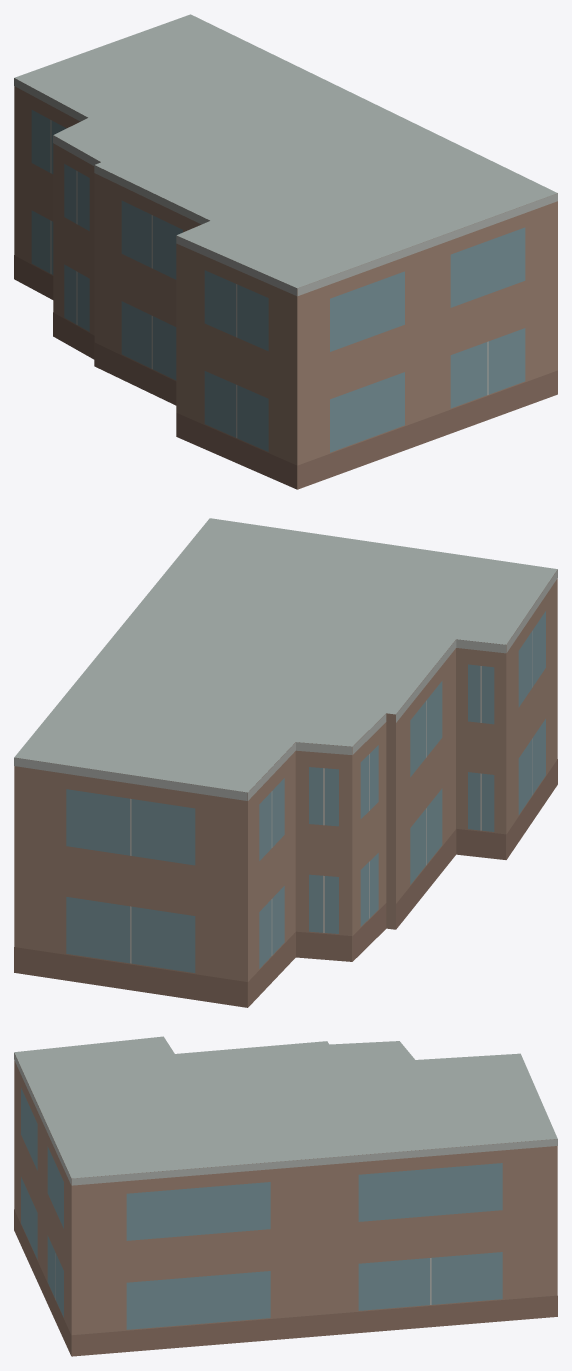
Rendered from survey-upis-32609986.glb.
The picture shows the model from 3 angles, top to bottom: view 1: azimuth 30°, elevation 25°; view 2: azimuth 150°, elevation 25°; view 3: azimuth 270°, elevation 25°; orthographic projection. The views are drawn at different scales.
Parts seen in each view (by area): view 1: survey-upis-32609986.tmp; view 2: survey-upis-32609986.tmp; view 3: survey-upis-32609986.tmp.
Boxes of the visible parts, x1,y1,x2,y2 form: survey-upis-32609986.tmp: [14, 14, 557, 489]; survey-upis-32609986.tmp: [14, 518, 557, 1007]; survey-upis-32609986.tmp: [14, 1036, 557, 1356].
Bounding box in the file's own units: 10.46 × 6.1 × 16.9.
